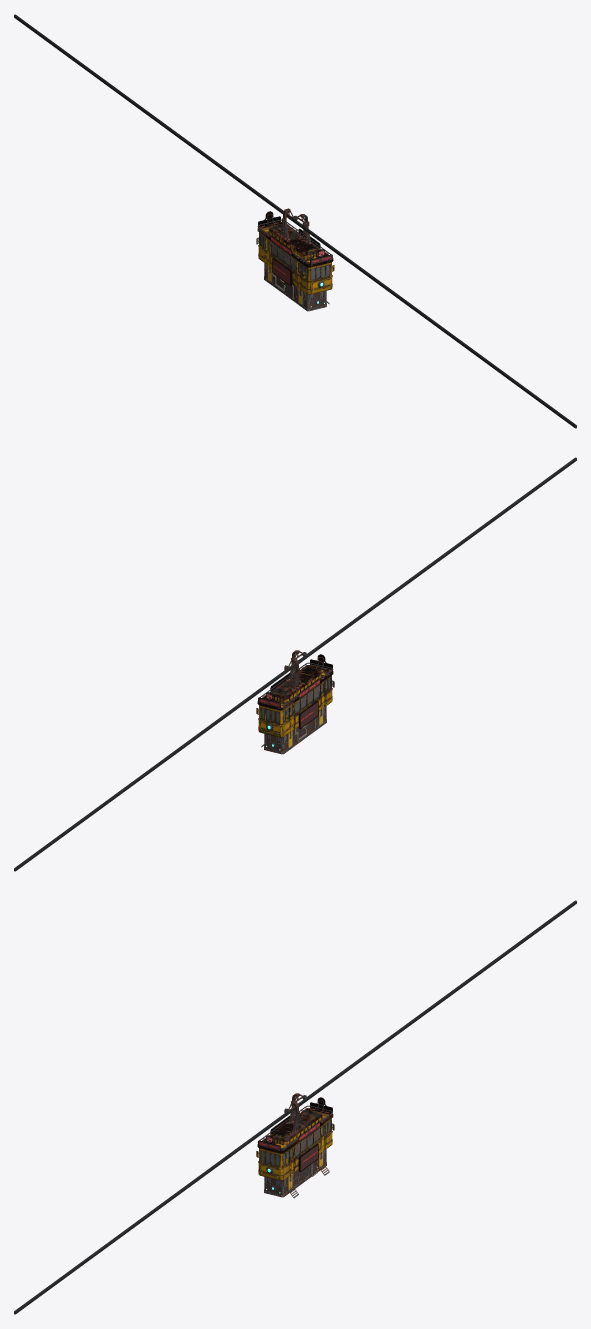
File: futuristic_cable_car.glb
3 renders of one model, top to bottom at view 1: azimuth 30°, elevation 25°; view 2: azimuth 150°, elevation 25°; view 3: azimuth 330°, elevation 25°, orthographic.
Parts seen in each view (by area): view 1: pCube24, parte_de_arriba1, polySurface130, polySurface152; view 2: pCube24, parte_de_arriba1, polySurface130; view 3: pCube24, parte_de_arriba1, polySurface130.
Boxes of the visible parts, left/top/right/bottom form: pCube24: left=14, top=14, right=576, bottom=428; parte_de_arriba1: left=258, top=232, right=332, bottom=294; polySurface130: left=264, top=263, right=326, bottom=311; polySurface152: left=268, top=224, right=320, bottom=255; pCube24: left=14, top=457, right=576, bottom=871; parte_de_arriba1: left=258, top=675, right=332, bottom=737; polySurface130: left=264, top=706, right=326, bottom=754; pCube24: left=14, top=900, right=576, bottom=1314; parte_de_arriba1: left=258, top=1118, right=332, bottom=1180; polySurface130: left=264, top=1149, right=326, bottom=1197.
Bounding box in the file's own units: 0.9367 × 2.3 × 28.08.
5 materials, 5 textured.
